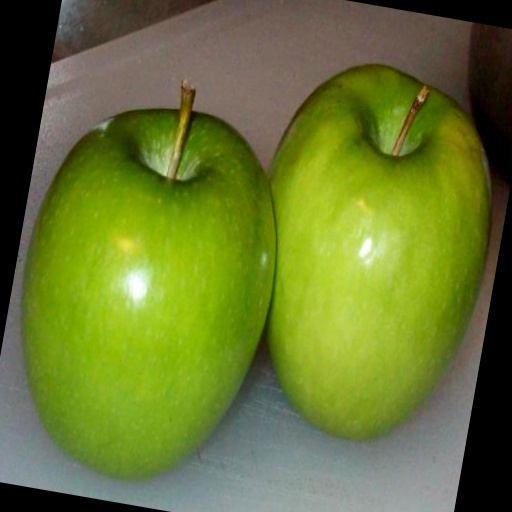fruit: (21, 109, 274, 478), (266, 65, 489, 438)
